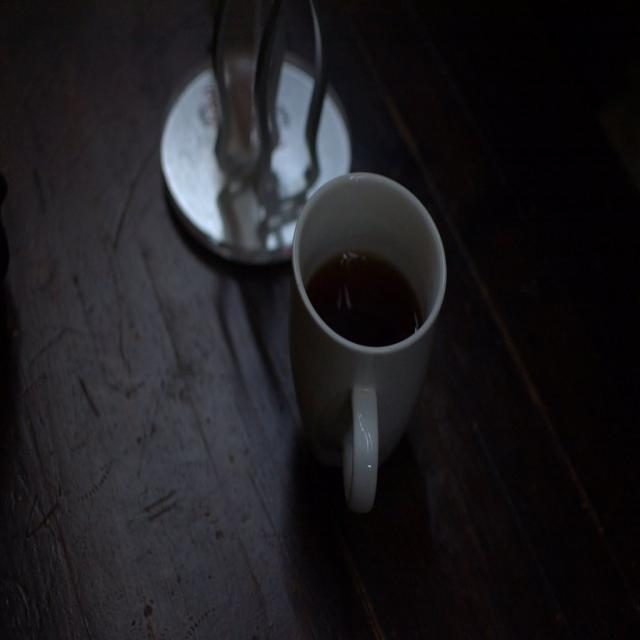Coffee: (306, 250, 426, 342)
Tea: (306, 252, 422, 350)
